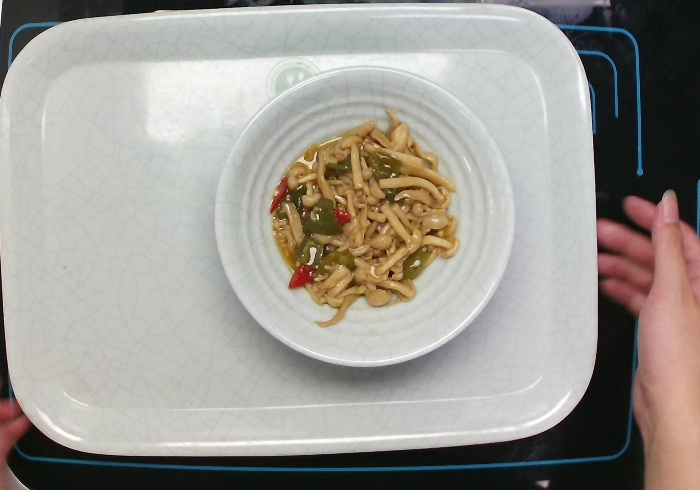JYsf-Xiao_Tang_Wan: (208, 62, 520, 372)
